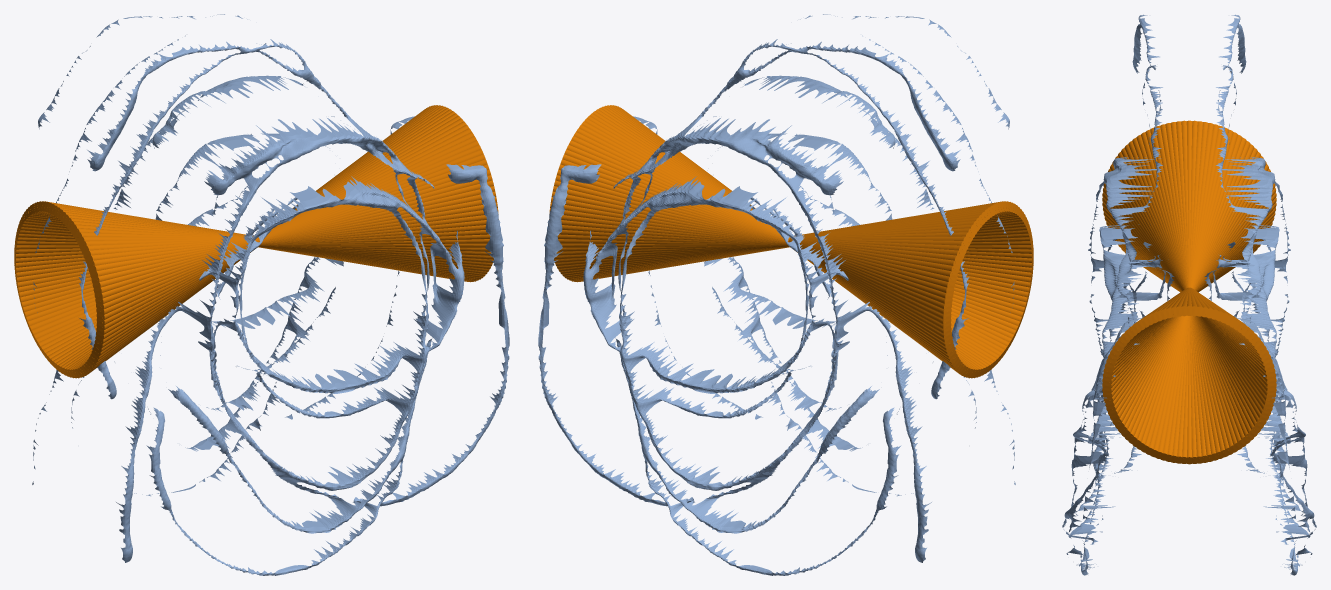
The model's file is Q45018420_5995-37-512-2600_DigitalTwin.glb.
3 renders of one model, left to right at view 1: azimuth 30°, elevation 25°; view 2: azimuth 150°, elevation 25°; view 3: azimuth 270°, elevation 25°, orthographic. The views are drawn at different scales.
Parts seen in each view (by area): view 1: world; view 2: world; view 3: world.
Part boxes in pixels (bbox=[...]): world: bbox=[14, 14, 509, 575]; world: bbox=[538, 14, 1033, 575]; world: bbox=[1062, 14, 1316, 575].
Bounding box in the file's own units: 175 × 216 × 99.84.
